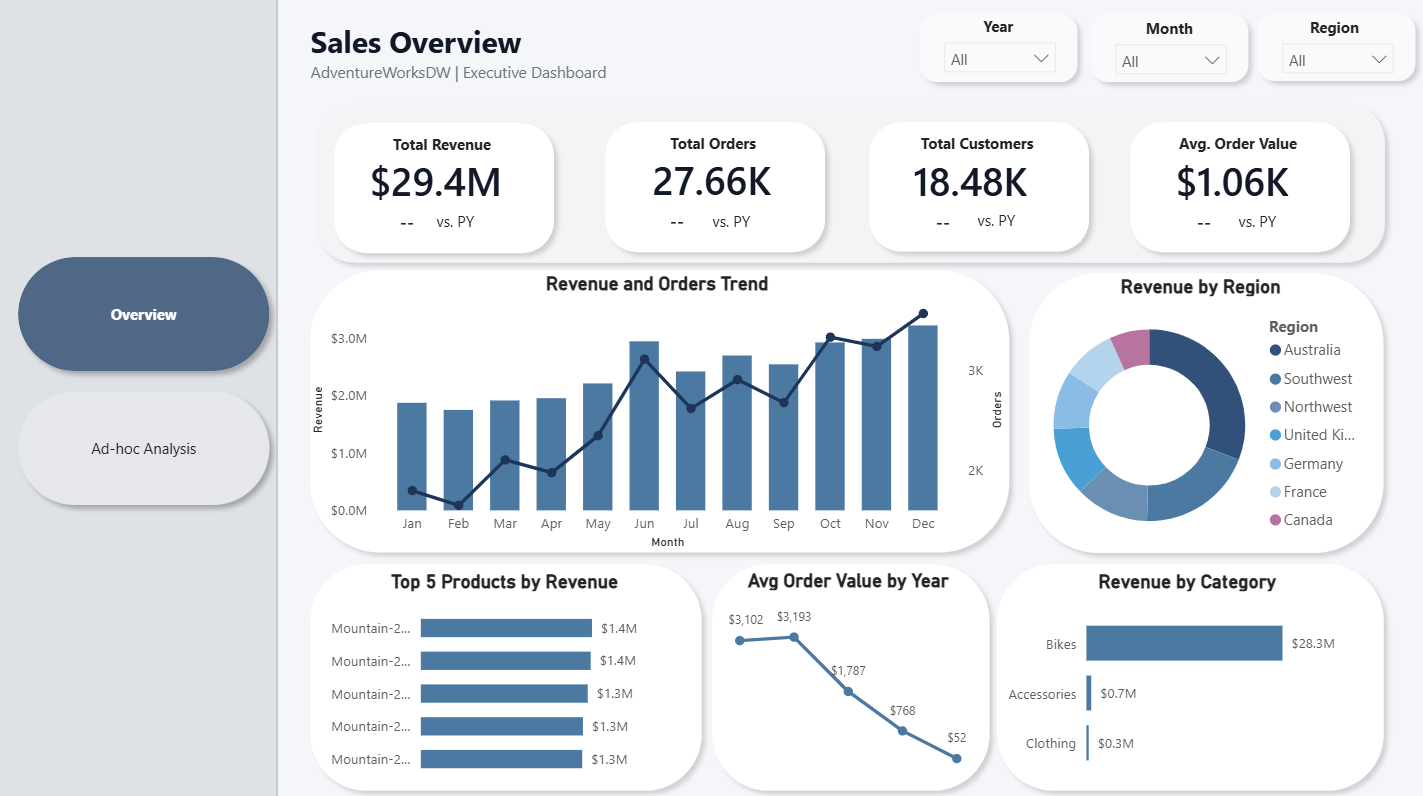

What the dashboard file says about the page in this screenshot:
{"tool":"powerbi","page":{"name":"Overview","canvas":[1280,720],"ordinal":0},"visuals":[{"type":"group","id":"g1","title":"Group 2","box":[0,0,260.2,720.7],"z":0},{"type":"shape","box":[0,0,252.1,720.7],"z":0,"group":"g1"},{"type":"shape","box":[1006.2,104.1,214.9,134.5],"z":0,"group":"g6"},{"type":"textbox","box":[276.9,0,283.8,108.5],"z":1000},{"type":"textbox","box":[1107,187.9,96.1,32.4],"z":1000,"group":"g6"},{"type":"pageNavigator","box":[11.1,224.6,243.2,240.7],"z":1000,"group":"g13"},{"type":"shape","box":[244.1,0,16.1,720.7],"z":1005,"group":"g13"},{"type":"group","id":"g2","title":"Group 1","box":[818.2,7.3,158.8,78.8],"z":2000,"group":"g15"},{"type":"shape","box":[276.4,87,975.8,161],"z":2000},{"type":"cardVisual","fields":{"Data":["_Measures.AOV"]},"box":[1026.7,97,253.4,134.5],"z":2000,"group":"g6"},{"type":"shape","box":[1120.6,6.6,158.8,78.8],"z":3000,"group":"g10"},{"type":"shape","box":[818.2,7.3,158.8,78.8],"z":3000,"group":"g2"},{"type":"shape","box":[970.9,7.3,158.8,78.8],"z":3000,"group":"g11"},{"type":"group","id":"g3","title":"Group 3","box":[282.9,96.7,275.5,142.1],"z":3000},{"type":"cardVisual","fields":{"Data":["_Measures.AOV"]},"box":[1004,167.5,154.3,66.6],"z":3000,"group":"g6"},{"type":"slicer","title":"Y","fields":{"Values":["DimDate.Year"]},"box":[838.5,31.8,119.6,42.2],"z":4000,"group":"g2"},{"type":"slicer","fields":{"Values":["DimSalesTerritory.Region"]},"box":[1140.8,32.4,119.6,42.2],"z":4000,"group":"g10"},{"type":"slicer","fields":{"Values":["DimDate.MonthName"]},"box":[991.1,33.1,119.6,42.2],"z":4000,"group":"g11"},{"type":"shape","box":[535.9,104,214.9,134.5],"z":4000,"group":"g4"},{"type":"shape","box":[771.8,104,214.9,134],"z":4000,"group":"g5"},{"type":"shape","box":[293.7,104.3,214.9,134.5],"z":4000,"group":"g3"},{"type":"textbox","box":[995.4,118.6,232.9,28.8],"z":4000,"group":"g6"},{"type":"shape","box":[272,236.5,643.9,270.9],"z":4000,"group":"g7"},{"type":"shape","box":[272,499.6,368.6,220.9],"z":4000,"group":"g8"},{"type":"shape","box":[887,499.6,364.1,220.9],"z":4000},{"type":"group","id":"g4","title":"Group 3","box":[525.1,104,232.9,134.5],"z":5000},{"type":"textbox","box":[873,187.5,96.1,32.3],"z":5000,"group":"g5"},{"type":"textbox","box":[636,187.8,96.1,32.4],"z":5000,"group":"g4"},{"type":"textbox","box":[389.3,188.1,96.1,32.4],"z":5000,"group":"g3"},{"type":"shape","box":[915.9,238.7,335.3,268.7],"z":5000,"group":"g9"},{"type":"cardVisual","fields":{"Data":["_Measures.Revenue"]},"box":[305,96.7,253.4,134.5],"z":6000,"group":"g3"},{"type":"group","id":"g5","title":"Group 3","box":[755.1,104,238.8,134],"z":6000},{"type":"cardVisual","fields":{"Data":["_Measures.Orders"]},"box":[541.2,125.5,198,76],"z":6000,"group":"g4"},{"type":"cardVisual","fields":{"Data":["_Measures.Customers"]},"box":[755.1,126.3,233.9,76.1],"z":6000,"group":"g5"},{"type":"group","id":"g6","title":"Group 4","box":[995.4,97,284.7,141.6],"z":7000},{"type":"cardVisual","fields":{"Data":["_Measures.Orders"]},"box":[532,166.8,154.9,67.2],"z":7000,"group":"g4"},{"type":"cardVisual","fields":{"Data":["_Measures.Revenue"]},"box":[291,167.1,154.9,67.2],"z":7000,"group":"g3"},{"type":"cardVisual","fields":{"Data":["_Measures.Customers"]},"box":[770,167.2,154.9,67],"z":7000,"group":"g5"},{"type":"textbox","box":[525.1,118.4,232.9,28.8],"z":8000,"group":"g4"},{"type":"textbox","box":[761,118.4,232.9,28.7],"z":8000,"group":"g5"},{"type":"textbox","box":[282.9,118.7,232.9,28.8],"z":8000,"group":"g3"},{"type":"group","id":"g7","title":"Group 5","box":[272,236.5,643.9,270.9],"z":8000},{"type":"lineClusteredColumnComboChart","title":"Revenue and Orders Trend","fields":{"Y":["_Measures.Revenue"],"Y2":["_Measures.Orders"],"Category":["DimDate.MonthShort"]},"box":[277.6,247.6,628.7,252.4],"z":9000,"group":"g7"},{"type":"group","id":"g8","title":"Group 6","box":[272,499.6,368.6,220.9],"z":9000},{"type":"group","id":"g9","title":"Group 7","box":[915.9,238.7,335.3,268.7],"z":10000},{"type":"shape","box":[631.7,499.6,266.4,220.9],"z":10500,"group":"g12"},{"type":"lineChart","title":"Avg Order Value by Year","fields":{"Y":["_Measures.AOV"],"Category":["DimDate.Year"]},"box":[650.9,513.4,224.2,179.8],"z":11000,"group":"g12"},{"type":"barChart","title":"Revenue by Category","fields":{"Y":["_Measures.Revenue"],"Category":["DimProduct.Category"]},"box":[895.9,514,340.8,195.4],"z":11000},{"type":"group","id":"g10","title":"Group 8","box":[1120.6,6.6,159.4,78],"z":12000},{"type":"donutChart","fields":{"Category":["DimSalesTerritory.Region"],"Y":["_Measures.Revenue"]},"box":[920.3,249.7,316.4,249.9],"z":12000,"group":"g9"},{"type":"textbox","box":[870.2,13.4,54.4,27.8],"z":13000,"group":"g15"},{"type":"textbox","box":[1167.9,14.4,59.9,27.8],"z":13000},{"type":"clusteredBarChart","title":"Top 5 Products by Revenue","fields":{"Category":["DimProduct.ProductName"],"Y":["_Measures.Revenue"]},"box":[279.3,514.1,352.1,195.4],"z":13000,"group":"g8"},{"type":"group","id":"g11","title":"Group 8","box":[970.9,7.3,158.8,78.8],"z":14000,"group":"g14"},{"type":"group","id":"g12","title":"Group 9","box":[631.7,499.6,266.4,220.9],"z":14000},{"type":"group","id":"g13","title":"Group 10","box":[11.1,0,249.1,720.7],"z":15000},{"type":"textbox","box":[1023.1,15.1,54.4,27.8],"z":15000,"group":"g14"},{"type":"group","id":"g14","title":"Group 11","box":[970.9,7.3,158.8,80],"z":16000},{"type":"group","id":"g15","title":"Group 12","box":[818.2,7.3,158.8,78.8],"z":17000}]}

Visuals, with their boxes in screenshot pixels (x1, y1, x2, y2), scaled from the page's 1280x720 canvas onto the 1423x796 screenshot:
"Group 2" group: bbox=(0, 0, 289, 795)
shape: bbox=(0, 0, 280, 795)
shape: bbox=(1119, 115, 1358, 264)
textbox: bbox=(308, 0, 623, 120)
textbox: bbox=(1231, 208, 1338, 244)
pageNavigator: bbox=(12, 248, 283, 514)
shape: bbox=(271, 0, 289, 795)
"Group 1" group: bbox=(910, 8, 1086, 95)
shape: bbox=(307, 96, 1392, 274)
cardVisual - _Measures.AOV: bbox=(1141, 107, 1422, 256)
shape: bbox=(1246, 7, 1422, 94)
shape: bbox=(910, 8, 1086, 95)
shape: bbox=(1079, 8, 1256, 95)
"Group 3" group: bbox=(315, 107, 621, 264)
cardVisual - _Measures.AOV: bbox=(1116, 185, 1288, 259)
"Y" slicer: bbox=(932, 35, 1065, 82)
slicer - DimSalesTerritory.Region: bbox=(1268, 36, 1401, 82)
slicer - DimDate.MonthName: bbox=(1102, 37, 1235, 83)
shape: bbox=(596, 115, 835, 264)
shape: bbox=(858, 115, 1097, 263)
shape: bbox=(327, 115, 565, 264)
textbox: bbox=(1107, 131, 1366, 163)
shape: bbox=(302, 261, 1018, 561)
shape: bbox=(302, 552, 712, 795)
shape: bbox=(986, 552, 1391, 795)
"Group 3" group: bbox=(584, 115, 843, 264)
textbox: bbox=(971, 207, 1077, 243)
textbox: bbox=(707, 208, 814, 243)
textbox: bbox=(433, 208, 540, 244)
shape: bbox=(1018, 264, 1391, 561)
cardVisual - _Measures.Revenue: bbox=(339, 107, 621, 256)
"Group 3" group: bbox=(839, 115, 1105, 263)
cardVisual - _Measures.Orders: bbox=(602, 139, 822, 223)
cardVisual - _Measures.Customers: bbox=(839, 140, 1099, 224)
"Group 4" group: bbox=(1107, 107, 1422, 264)
cardVisual - _Measures.Orders: bbox=(591, 184, 764, 259)
cardVisual - _Measures.Revenue: bbox=(324, 185, 496, 259)
cardVisual - _Measures.Customers: bbox=(856, 185, 1028, 259)
textbox: bbox=(584, 131, 843, 163)
textbox: bbox=(846, 131, 1105, 163)
textbox: bbox=(315, 131, 573, 163)
"Group 5" group: bbox=(302, 261, 1018, 561)
"Revenue and Orders Trend" lineClusteredColumnComboChart: bbox=(309, 274, 1008, 553)
"Group 6" group: bbox=(302, 552, 712, 795)
"Group 7" group: bbox=(1018, 264, 1391, 561)
shape: bbox=(702, 552, 998, 795)
"Avg Order Value by Year" lineChart: bbox=(724, 568, 973, 766)
"Revenue by Category" barChart: bbox=(996, 568, 1375, 784)
"Group 8" group: bbox=(1246, 7, 1422, 94)
donutChart - DimSalesTerritory.Region x _Measures.Revenue: bbox=(1023, 276, 1375, 552)
textbox: bbox=(967, 15, 1028, 46)
textbox: bbox=(1298, 16, 1365, 47)
"Top 5 Products by Revenue" clusteredBarChart: bbox=(311, 568, 702, 784)
"Group 8" group: bbox=(1079, 8, 1256, 95)
"Group 9" group: bbox=(702, 552, 998, 795)
"Group 10" group: bbox=(12, 0, 289, 795)
textbox: bbox=(1137, 17, 1198, 47)
"Group 11" group: bbox=(1079, 8, 1256, 97)
"Group 12" group: bbox=(910, 8, 1086, 95)
